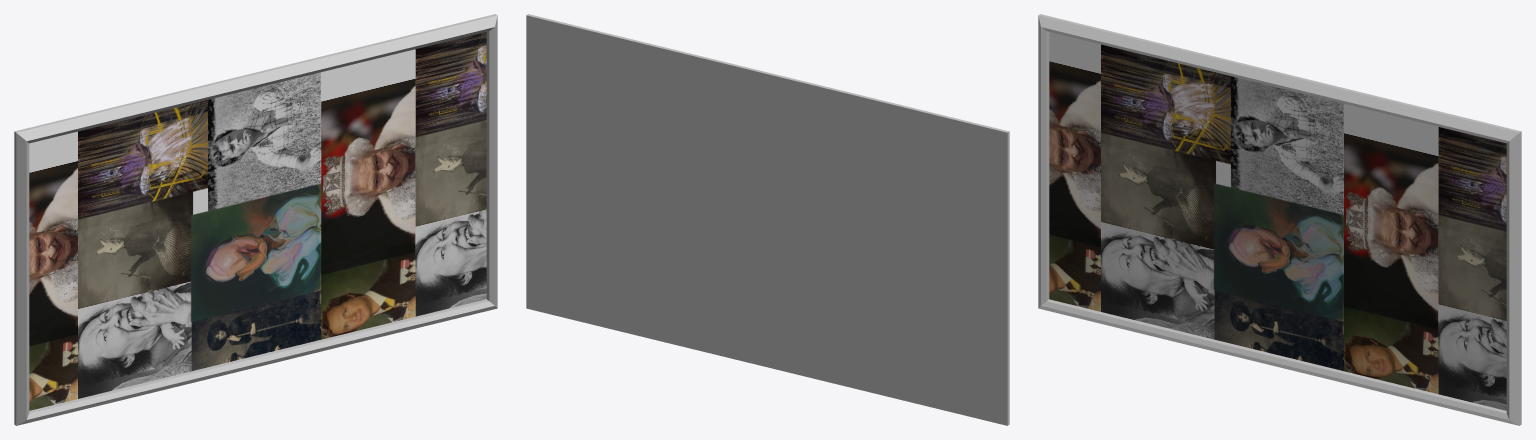
File: EN_P_BigFrame.fbx
3 views of the same model, side by side, from view 1: azimuth 30°, elevation 25°; view 2: azimuth 150°, elevation 25°; view 3: azimuth 330°, elevation 25° (orthographic).
Parts seen in each view (by area): view 1: frameBig; view 2: frameBig; view 3: frameBig.
Part boxes in pixels (x1,y1,x2,y2): frameBig: (14, 14, 497, 425); frameBig: (526, 14, 1009, 425); frameBig: (1038, 14, 1521, 425).
Size of the model in its own units: 288 by 168 by 6.04.
